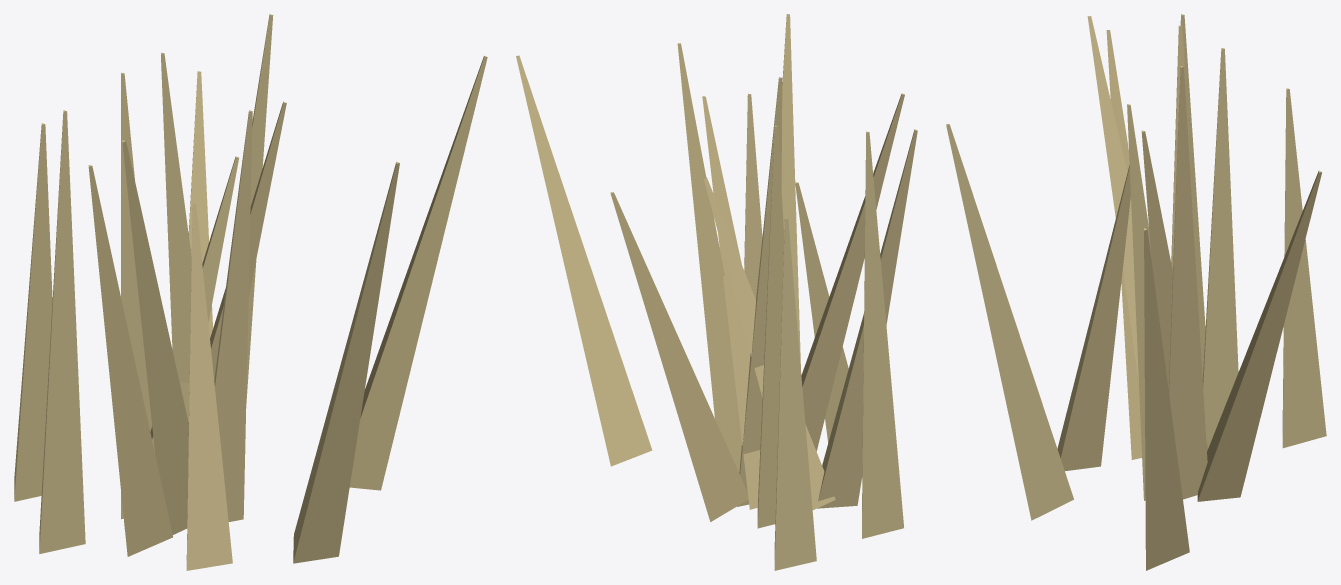
File: SeaOats.fbx
3 renders of one model, left to right at view 1: azimuth 30°, elevation 25°; view 2: azimuth 150°, elevation 25°; view 3: azimuth 270°, elevation 25°, orthographic. The views are drawn at different scales.
Parts seen in each view (by area): view 1: SeaOats; view 2: SeaOats; view 3: SeaOats.
Part boxes in pixels (<box>): SeaOats: <box>14,14,487,570</box>; SeaOats: <box>516,14,917,570</box>; SeaOats: <box>946,14,1326,570</box>.
Bounding box in the file's own units: 408 × 434 × 324.
